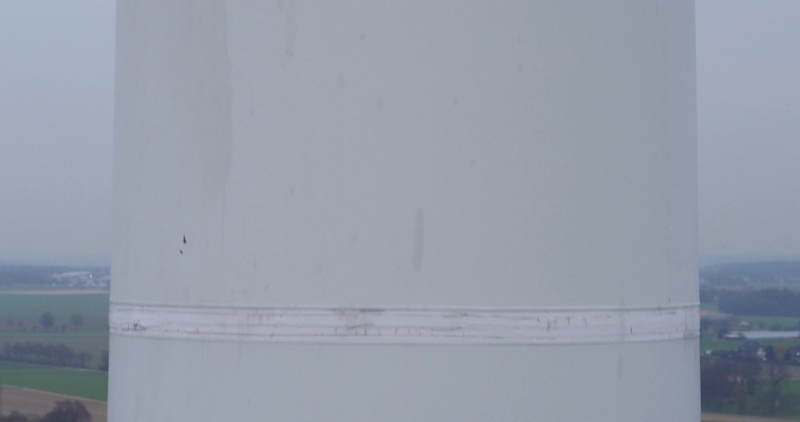weldseam: (105, 292, 706, 315), (107, 327, 701, 348)
